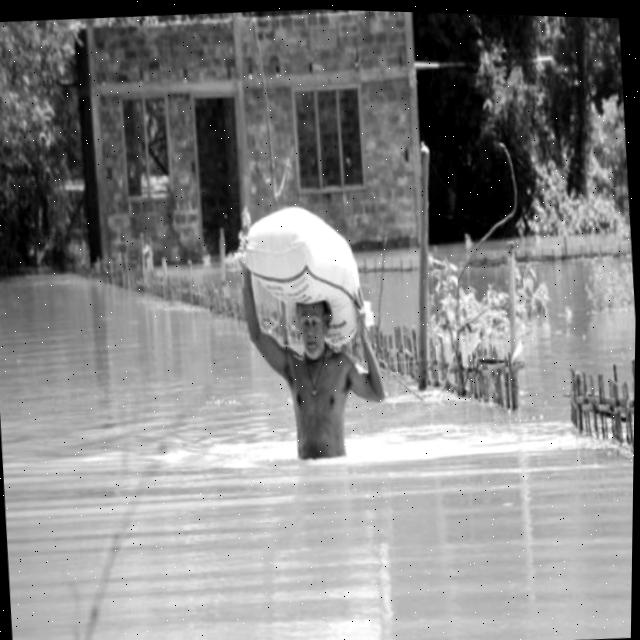civilian: (205, 257, 409, 482)
